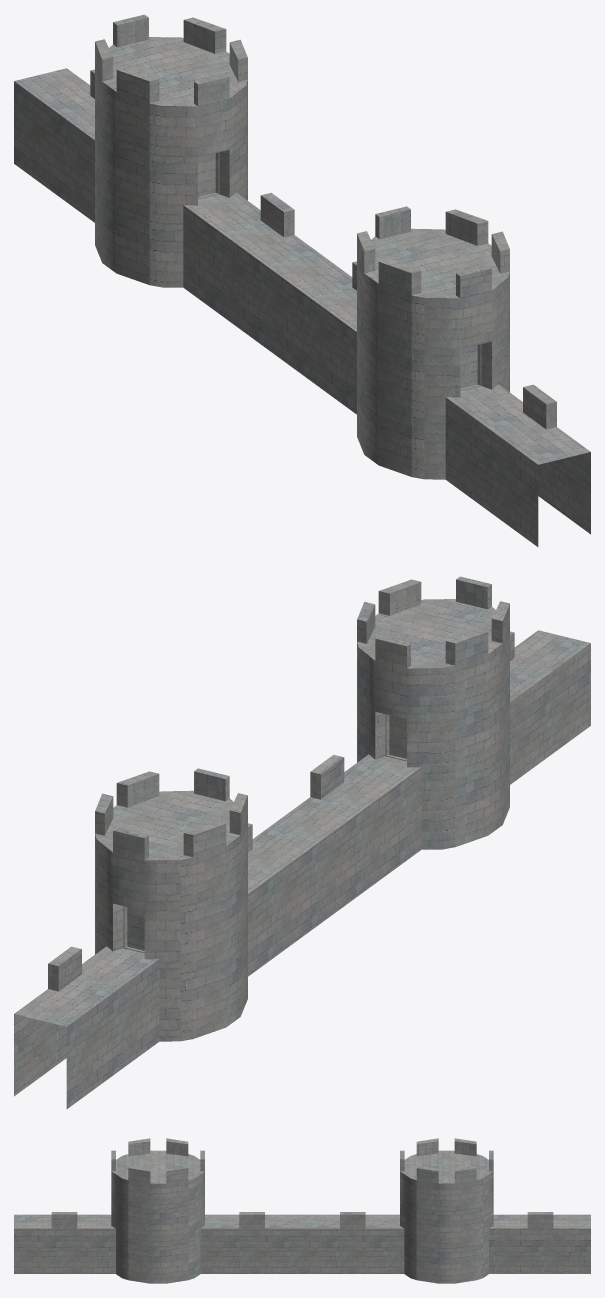
The model's file is Wall.fbx.
3 renders of one model, top to bottom at view 1: azimuth 30°, elevation 25°; view 2: azimuth 150°, elevation 25°; view 3: azimuth 270°, elevation 25°, orthographic. The views are drawn at different scales.
Parts seen in each view (by area): view 1: pCube1; view 2: pCube1; view 3: pCube1.
Part boxes in pixels (bbox=[...]): pCube1: bbox=[14, 14, 590, 546]; pCube1: bbox=[14, 576, 590, 1108]; pCube1: bbox=[14, 1138, 590, 1283].
Bounding box in the file's own units: 9.01 × 14.15 × 65.99.
1 material, 1 textured.
